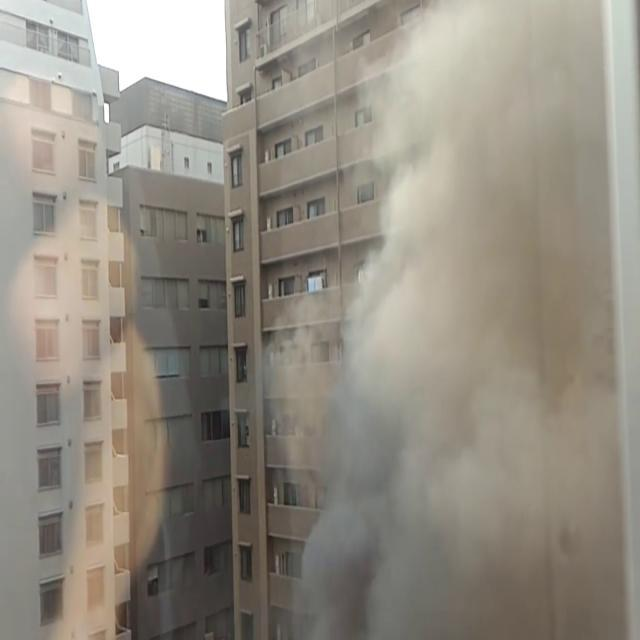Smoke: (270, 1, 616, 634), (0, 14, 40, 640)
